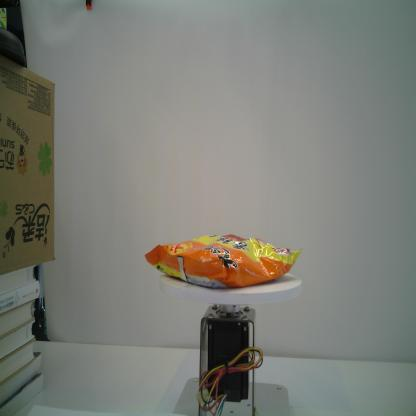Instant Noodles: (144, 233, 304, 289)
